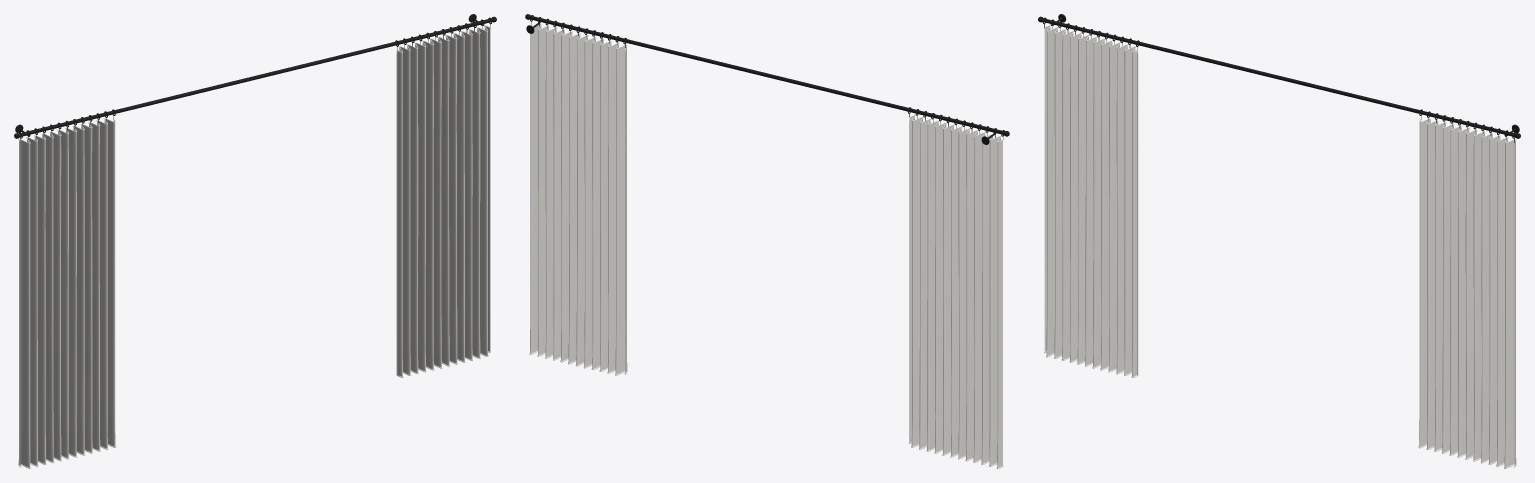
The model's file is cortina_onda_360_c40.glb.
The picture shows the model from 3 angles, left to right: view 1: azimuth 30°, elevation 25°; view 2: azimuth 150°, elevation 25°; view 3: azimuth 330°, elevation 25°; orthographic projection.
Parts seen in each view (by area): view 1: cortina_onda_360_c40; view 2: cortina_onda_360_c40; view 3: cortina_onda_360_c40.
Boxes of the visible parts, left/top/right/bottom form: cortina_onda_360_c40: left=14, top=14, right=496, bottom=468; cortina_onda_360_c40: left=525, top=14, right=1009, bottom=468; cortina_onda_360_c40: left=1038, top=14, right=1520, bottom=468.
Size of the model in its own units: 3.6 by 2.39 by 0.1793.
Materials: 2 (1 with a texture image).
